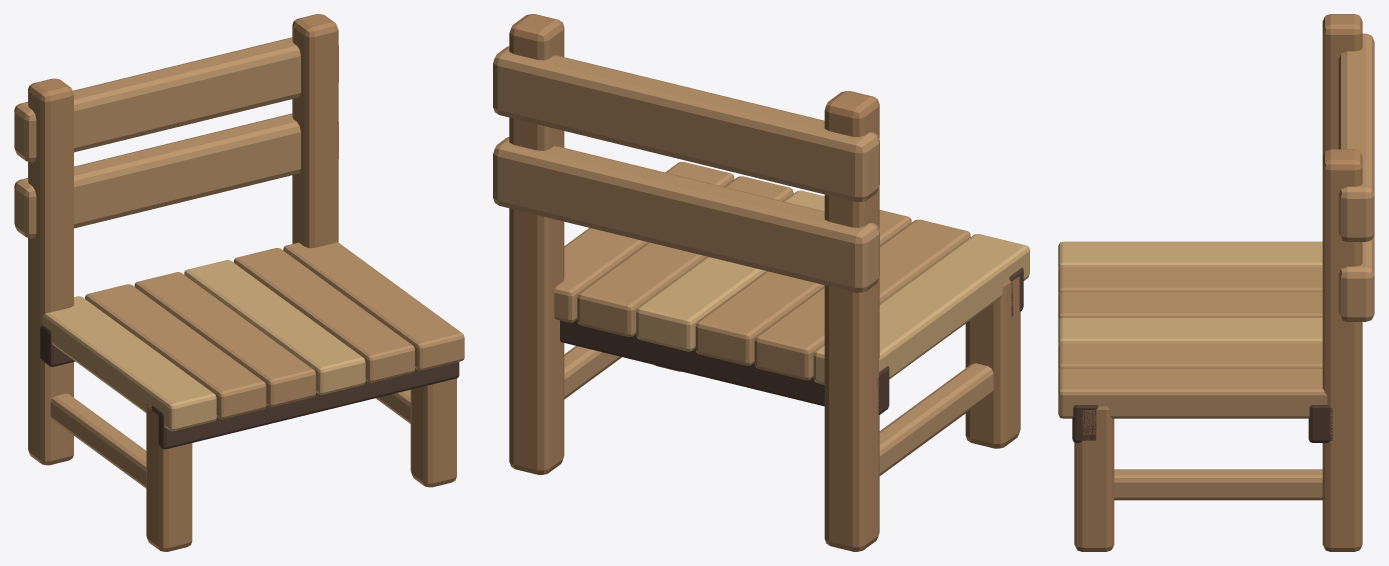
File: chair_oak_wide.glb
The picture shows the model from 3 angles, left to right: view 1: azimuth 30°, elevation 25°; view 2: azimuth 150°, elevation 25°; view 3: azimuth 270°, elevation 25°; orthographic projection. The views are drawn at different scales.
Visible parts, largest first — view 1: chair_oak_wide; view 2: chair_oak_wide; view 3: chair_oak_wide.
Boxes of the visible parts, x1,y1,x2,y2 form: chair_oak_wide: (14, 14, 464, 551); chair_oak_wide: (493, 14, 1029, 551); chair_oak_wide: (1058, 14, 1374, 551).
Size of the model in its own units: 0.95 by 1.08 by 0.79.
